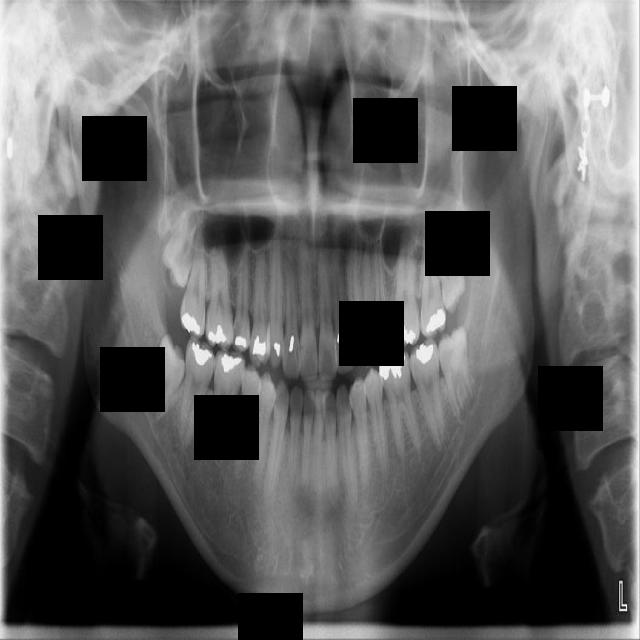3M ESPE Implant: (158, 203, 200, 289)
52: (402, 336, 449, 386), (178, 335, 224, 383), (375, 349, 419, 397), (387, 306, 425, 350), (211, 347, 249, 386), (333, 318, 356, 374), (420, 296, 448, 340), (206, 309, 235, 349), (181, 292, 205, 339), (280, 329, 302, 380), (265, 328, 287, 369), (355, 325, 376, 367), (250, 329, 271, 368), (374, 317, 394, 353), (231, 319, 251, 354)
73: (620, 618, 632, 627)
BioHorizons Implant: (421, 224, 450, 338)
BioLife Implant: (434, 218, 469, 315)
Biomet 3i Implant: (436, 326, 476, 423)
Blue Sky Bio Implant: (409, 337, 446, 451)
Caries: (179, 223, 208, 339)
Implant: (176, 336, 218, 444)
Keystone Dental Implant: (134, 333, 196, 422)
